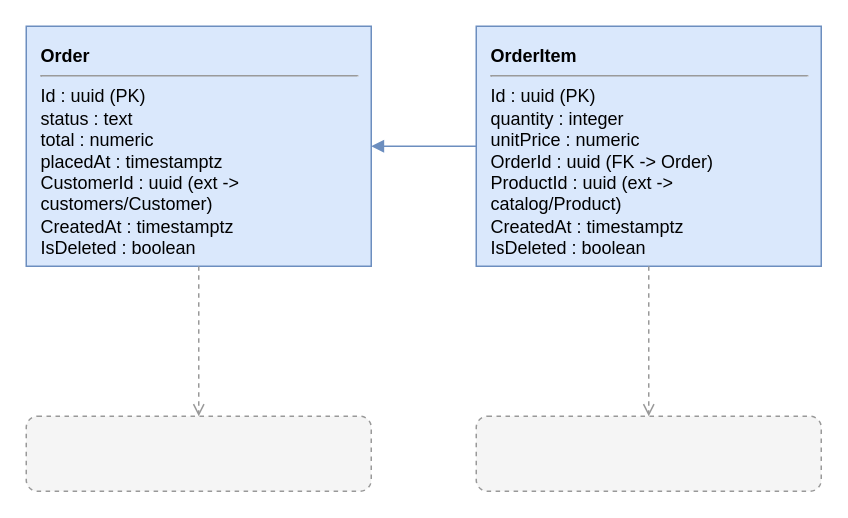
This 848x518 diagram has some shape labels left out. Here are the shapes that lost their labels. From the top down, the centre of each, then its label:
pixel 198 453: customers/Customer (dış servis)
pixel 648 453: catalog/Product (dış servis)
